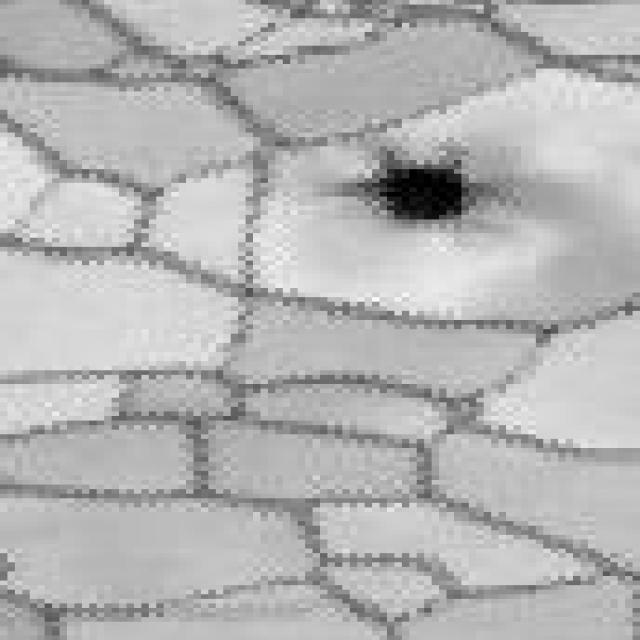good_void: (341, 138, 521, 230)
